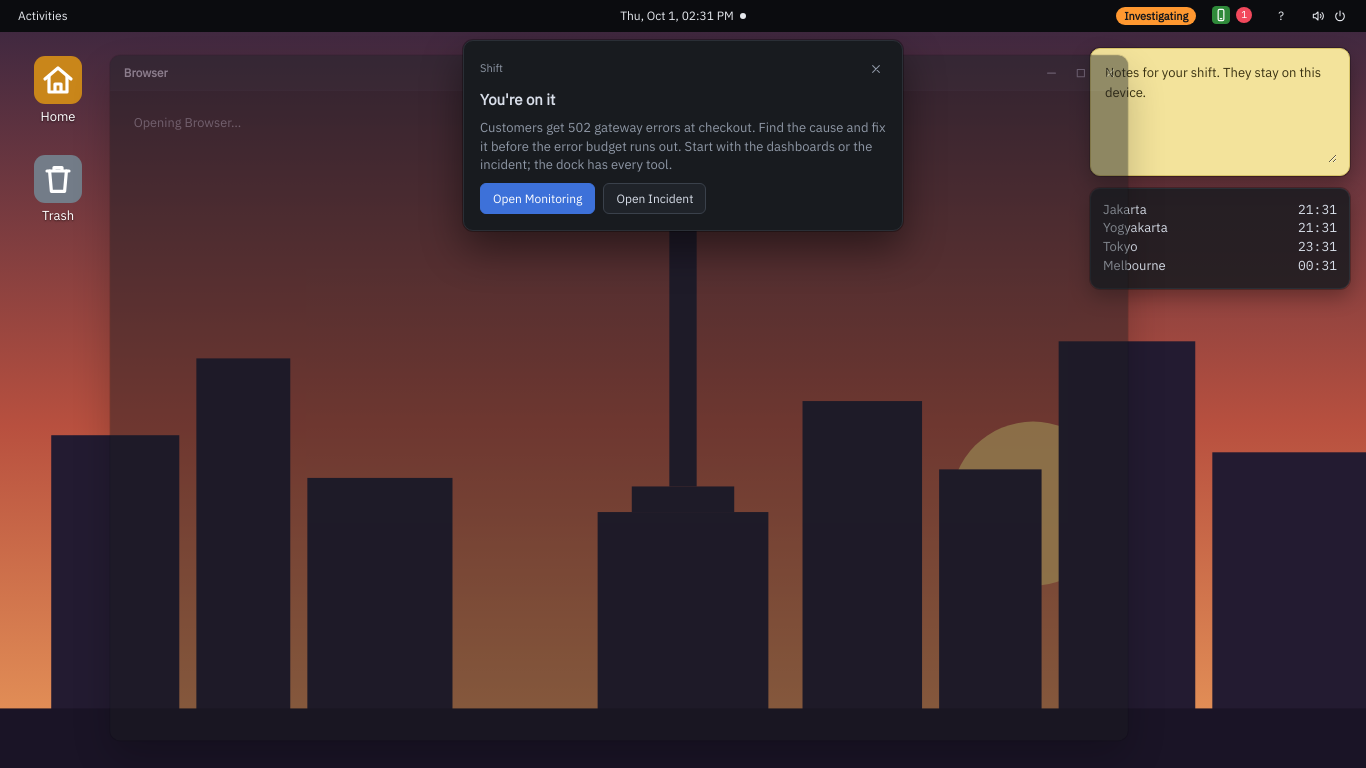
Desktop › tucks the dock under maximized Monitoring after the ack
The width and height of the screenshot is (1366, 768).
Click the button "Open Monitoring" at (538, 199), box x1=480 y1=183 x2=595 y2=214
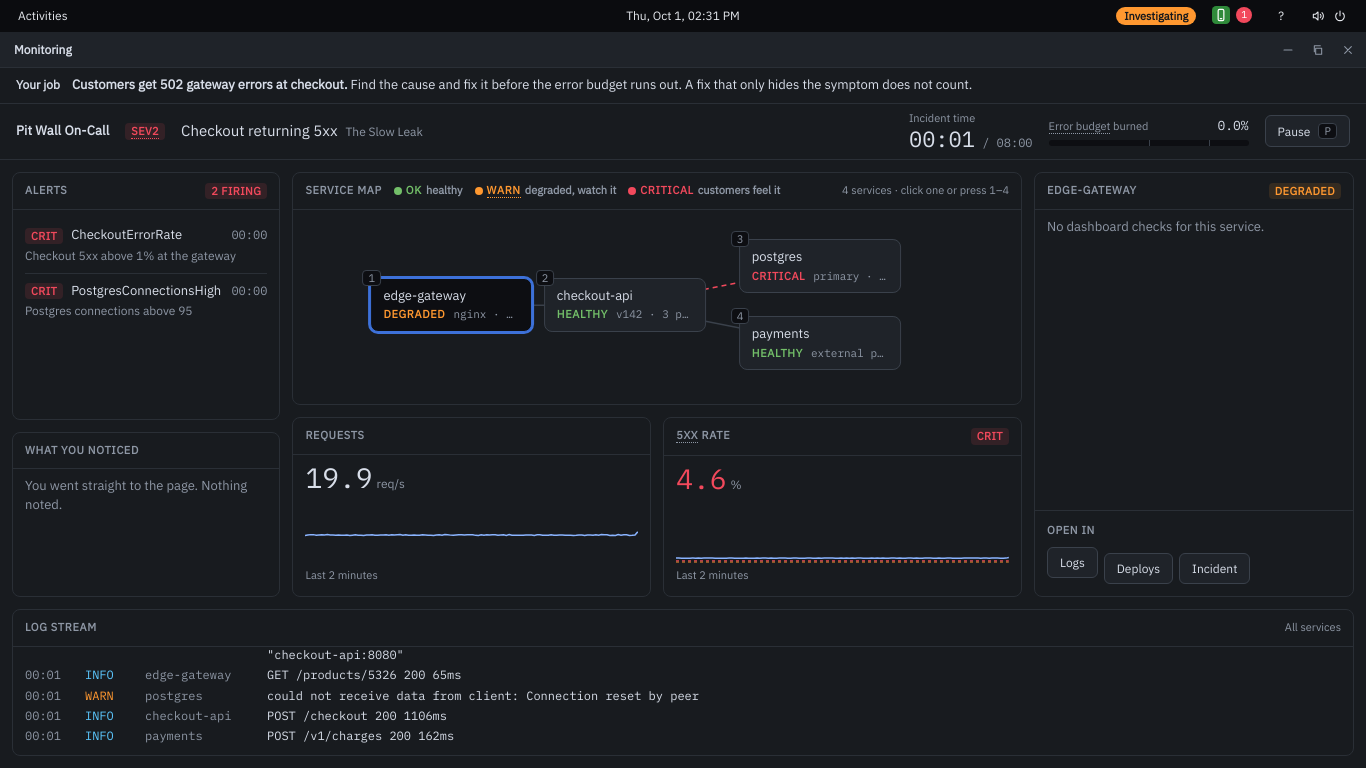
Check: the element "Monitoring" is shown
